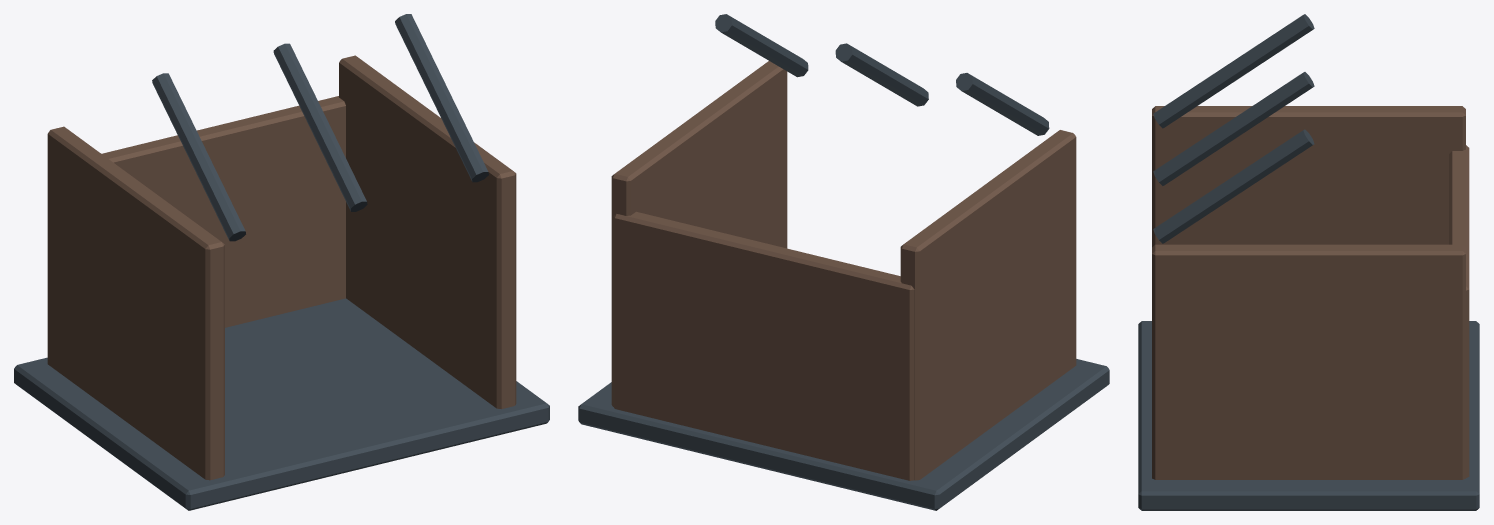
The model's file is SH10_L03_BurntHouse.fbx.
3 renders of one model, left to right at view 1: azimuth 30°, elevation 25°; view 2: azimuth 150°, elevation 25°; view 3: azimuth 270°, elevation 25°, orthographic. The views are drawn at different scales.
Parts seen in each view (by area): view 1: SH10_L03_BurntHouse; view 2: SH10_L03_BurntHouse; view 3: SH10_L03_BurntHouse.
Boxes of the visible parts, x1=… form: SH10_L03_BurntHouse: x1=14, y1=14, x2=549, y2=510; SH10_L03_BurntHouse: x1=578, y1=14, x2=1109, y2=510; SH10_L03_BurntHouse: x1=1138, y1=14, x2=1479, y2=510.
Bounding box in the file's own units: 300 × 286 × 250.
